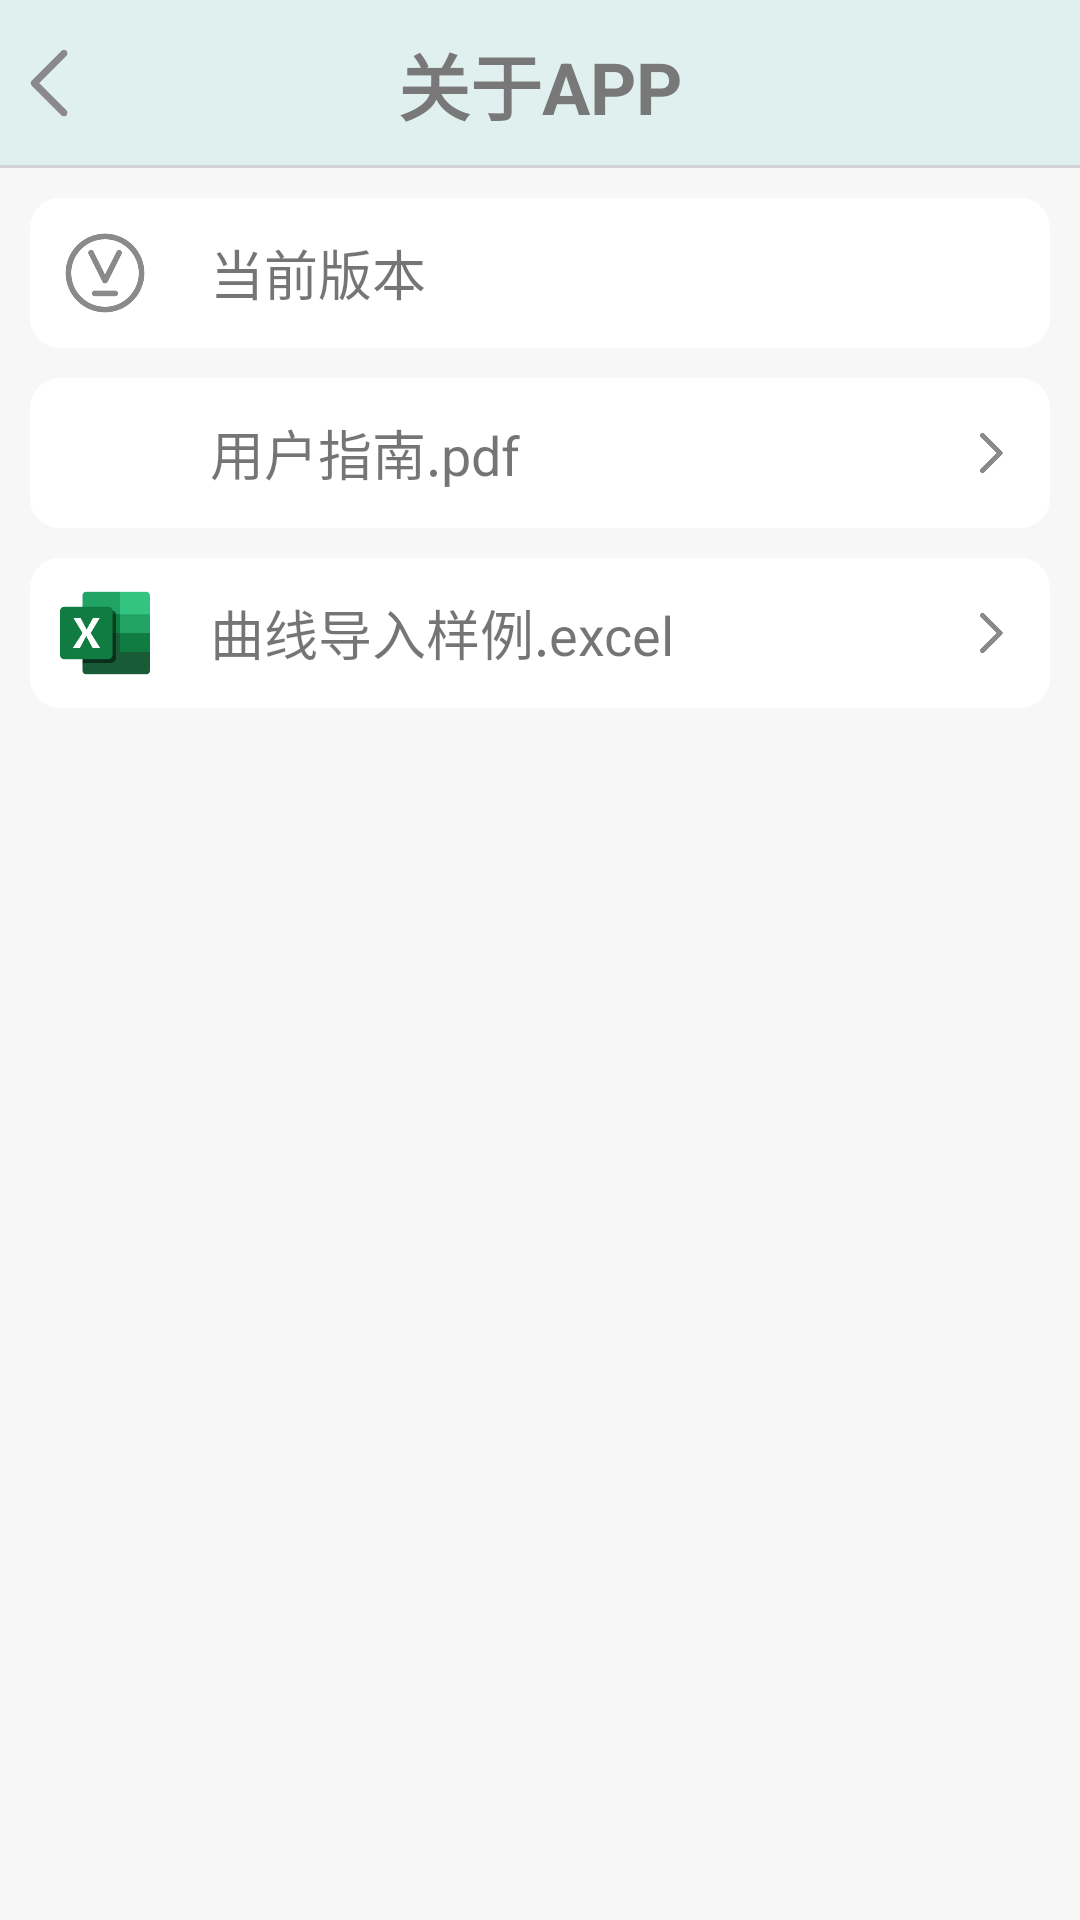

Point at icon controls on the screen. Image size 1080 × 1920, points as (x,y).
back: (49,83)
进入: (991,453), (991,633)
